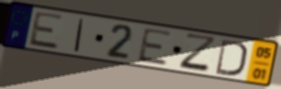2: (104, 23, 134, 61)
D: (214, 37, 249, 78)
E: (27, 10, 66, 51), (135, 27, 174, 68)
I: (72, 17, 86, 54)
Z: (177, 32, 219, 75)
